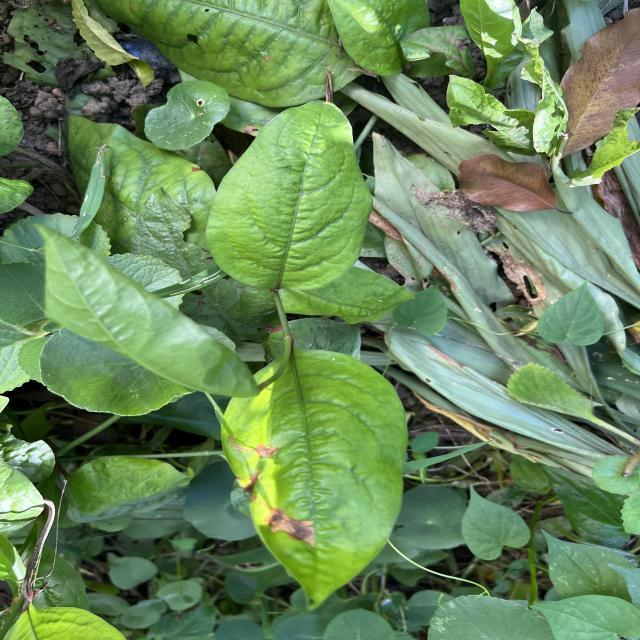Plumbago indica: (212, 342, 414, 614), (203, 97, 374, 295)
